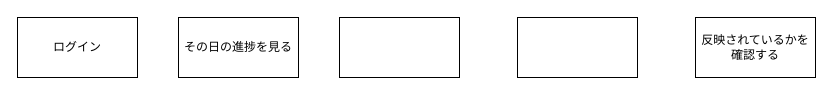
Image size: 833x95. Some labels were removed from this diagram. The centre of each missing label's shape, as x and y in pixels:
タスクを追加する: [577,47]
次の日のタスクを考える: [399,47]
